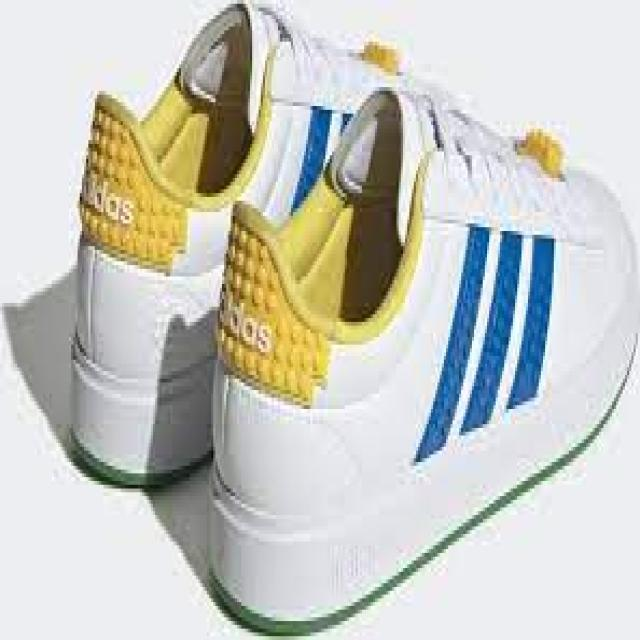shoe: (36, 1, 637, 626), (218, 83, 640, 638)
